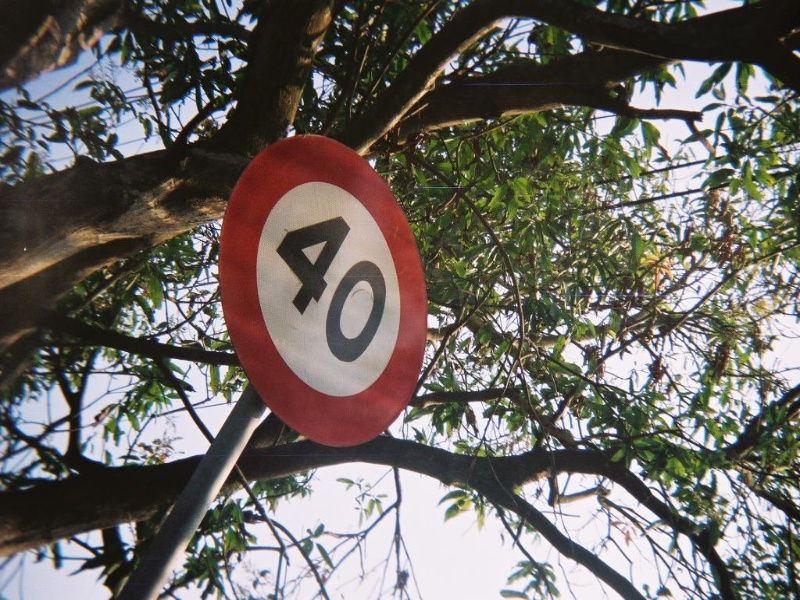speed_limit_40: (219, 127, 432, 449)
